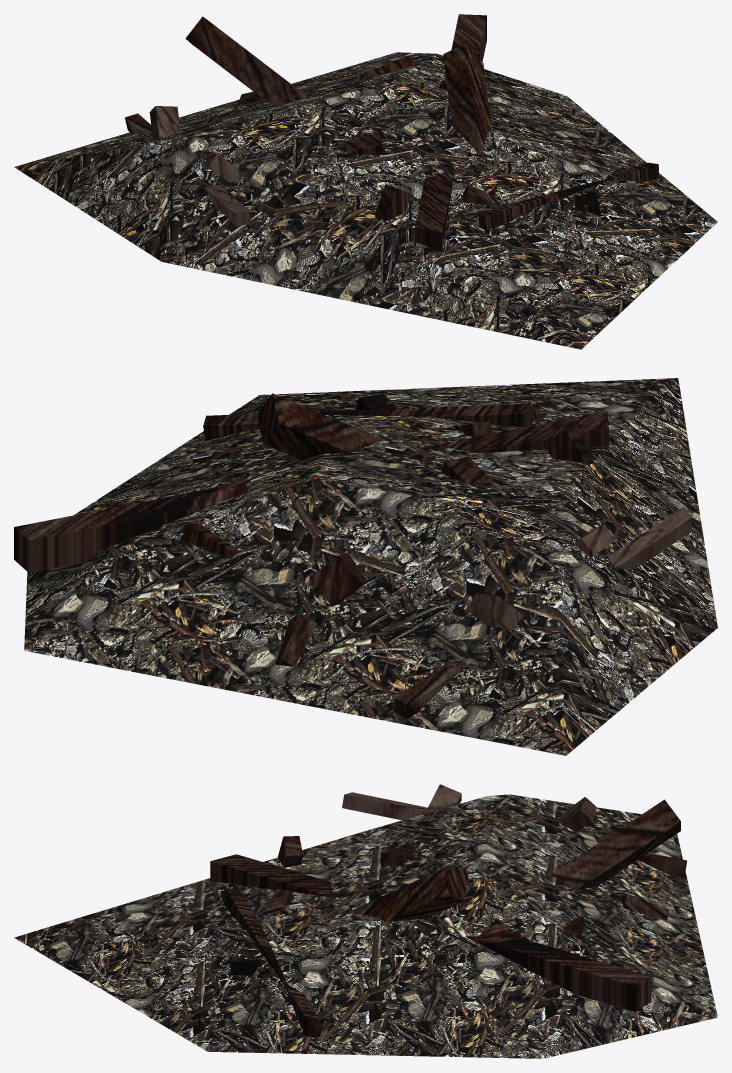
The model's file is rubble_1.obj.
3 views of the same model, one above another, from view 1: azimuth 30°, elevation 25°; view 2: azimuth 150°, elevation 25°; view 3: azimuth 270°, elevation 25° (orthographic). The views are drawn at different scales.
Visible parts, largest first — view 1: pile, pieces; view 2: pile, pieces; view 3: pile, pieces.
Boxes of the visible parts, box(x1,y1,x2,y2) form: pile: box(14, 52, 717, 349); pieces: box(125, 14, 659, 251); pile: box(24, 378, 717, 755); pieces: box(14, 393, 692, 719); pile: box(14, 794, 717, 1058); pieces: box(210, 784, 686, 1036).
Size of the model in its own units: 200 by 48.65 by 248.
2 materials, 2 textured.
